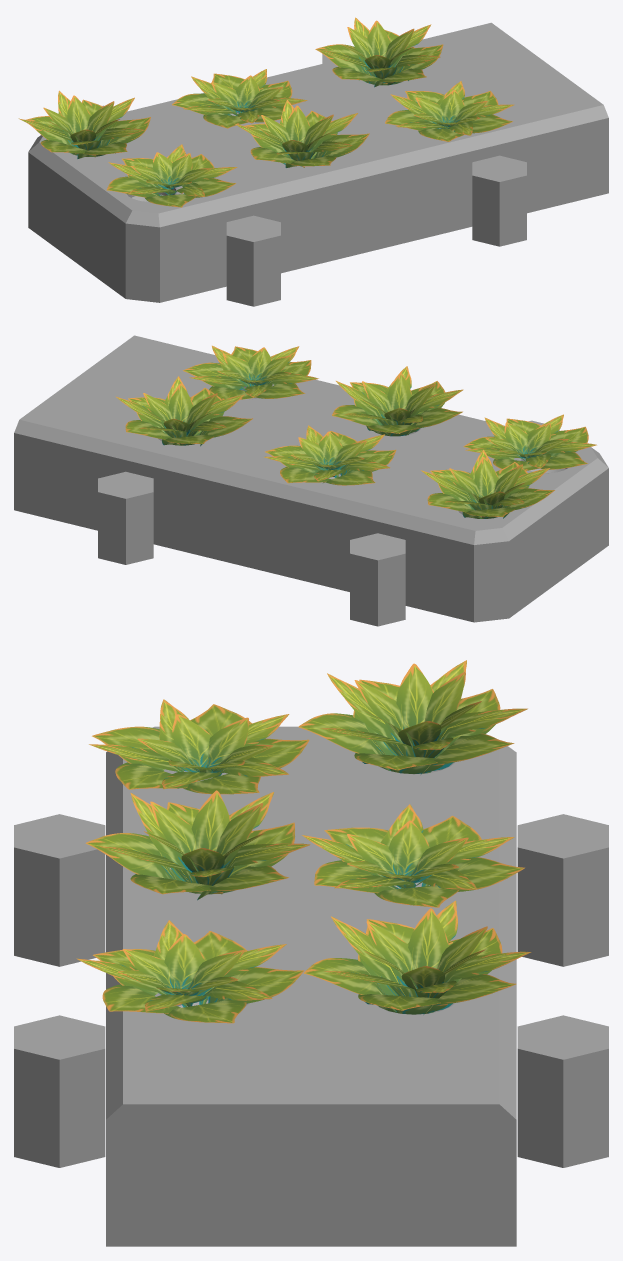
Rendered from ZontalPonicsTop.fbx.
3 renders of one model, top to bottom at view 1: azimuth 30°, elevation 25°; view 2: azimuth 150°, elevation 25°; view 3: azimuth 270°, elevation 25°, orthographic. The views are drawn at different scales.
Parts seen in each view (by area): view 1: TowerandSupp1, Plant1, Plant4, Plant5, Plant3, Plant2, Plant6; view 2: TowerandSupp1, Plant5, Plant1, Plant4, Plant6, Plant2, Plant3; view 3: TowerandSupp1, Plant4, Plant5, Plant1, Plant2, Plant6, Plant3.
Part boxes in pixels (x1,y1,x2,y2): TowerandSupp1: (28,22,608,306); Plant1: (315,17,443,87); Plant4: (18,90,150,158); Plant5: (234,99,369,167); Plant3: (106,144,237,207); Plant2: (385,81,514,141); Plant6: (172,69,307,128); TowerandSupp1: (14,335,608,626); Plant5: (332,366,463,436); Plant1: (115,376,252,446); Plant4: (420,449,554,518); Plant6: (264,425,396,485); Plant2: (183,345,318,399); Plant3: (463,414,596,470); TowerandSupp1: (14,726,608,1246); Plant4: (298,660,527,774); Plant5: (85,790,310,900); Plant1: (303,900,531,1014); Plant2: (76,920,304,1023); Plant6: (302,804,524,907); Plant3: (89,699,309,794).
Bounding box in the file's own units: 5.66 × 1.31 × 3.51.
